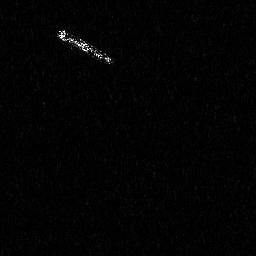ship: (55, 26, 114, 66)
